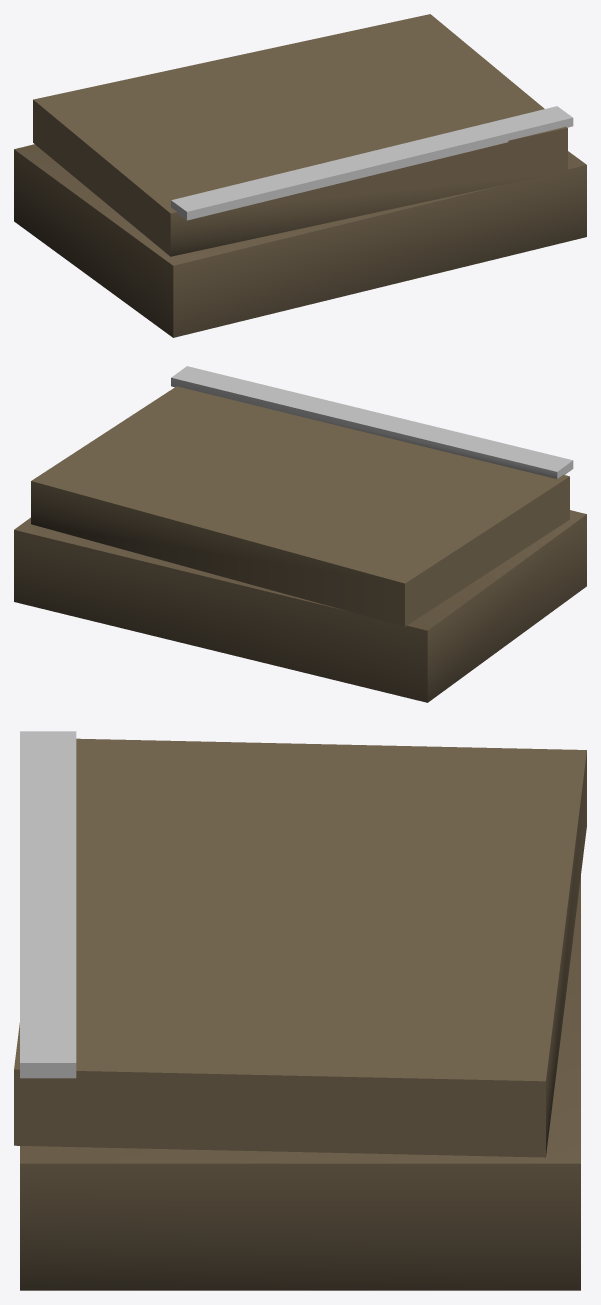
Rendered from pantalon_monte.glb.
3 renders of one model, top to bottom at view 1: azimuth 30°, elevation 25°; view 2: azimuth 150°, elevation 25°; view 3: azimuth 270°, elevation 25°, orthographic. The views are drawn at different scales.
Parts seen in each view (by area): view 1: pantalon_monte; view 2: pantalon_monte; view 3: pantalon_monte.
Part boxes in pixels (<box>): pantalon_monte: <box>14,14,586,337</box>; pantalon_monte: <box>14,366,586,702</box>; pantalon_monte: <box>14,731,586,1290</box>.
Bounding box in the file's own units: 0.3 × 0.085 × 0.2044.
